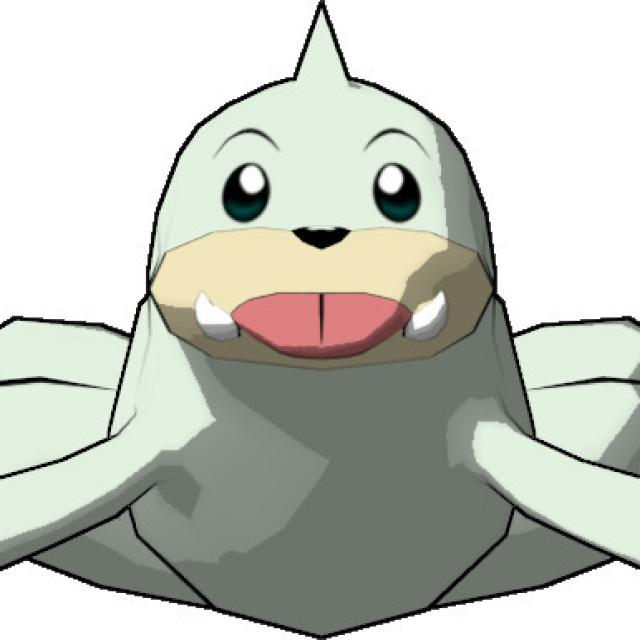Seel: (74, 0, 567, 616)
